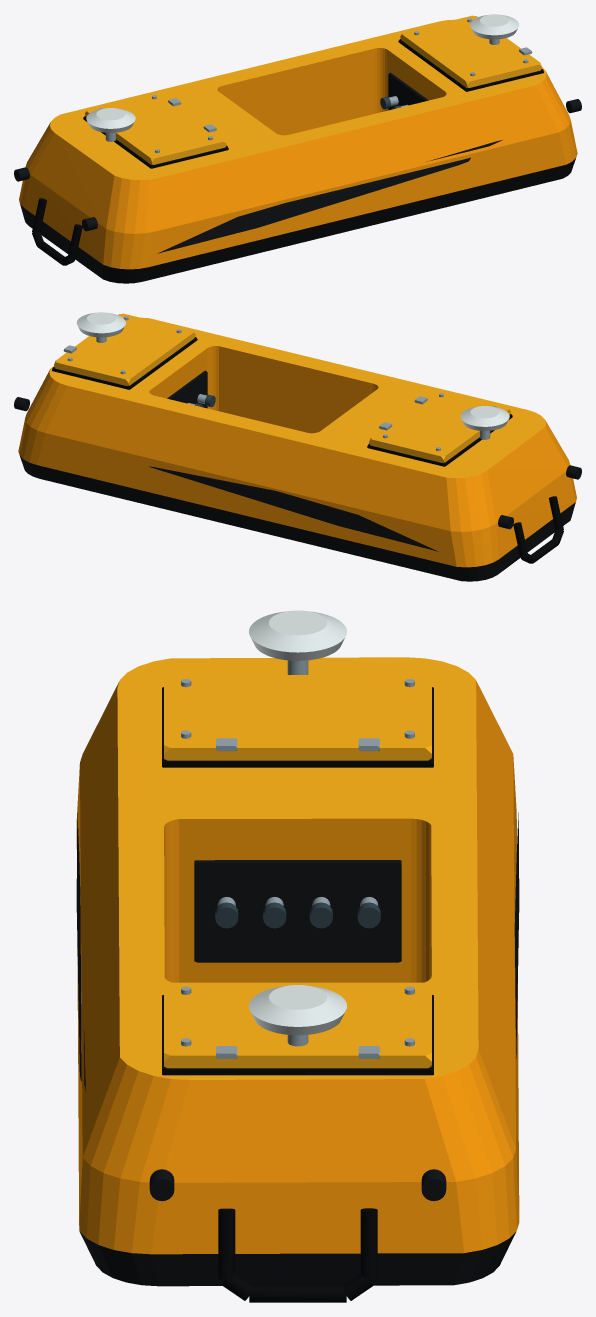
The model's file is equipment_cabin.dae.
The picture shows the model from 3 angles, top to bottom: view 1: azimuth 30°, elevation 25°; view 2: azimuth 150°, elevation 25°; view 3: azimuth 270°, elevation 25°; orthographic projection. The views are drawn at different scales.
Parts seen in each view (by area): view 1: node1, node2, node0, node3, node5, node4; view 2: node1, node2, node0, node3, node5, node4; view 3: node1, node2, node0, node3, node5, node4, node6.
Boxes of the visible parts, <box> form: node1: <box>19,48,577,269</box>; node2: <box>50,15,546,179</box>; node0: <box>14,72,581,283</box>; node3: <box>32,39,543,265</box>; node5: <box>86,14,519,132</box>; node4: <box>99,18,532,152</box>; node1: <box>18,346,576,567</box>; node2: <box>49,313,545,477</box>; node0: <box>14,370,581,581</box>; node3: <box>52,337,563,563</box>; node5: <box>76,312,509,430</box>; node4: <box>63,316,496,450</box>; node1: <box>76,680,519,1254</box>; node2: <box>117,657,478,1079</box>; node0: <box>76,812,519,1286</box>; node3: <box>162,687,433,1302</box>; node5: <box>249,610,346,1035</box>; node4: <box>181,660,414,1058</box>; node6: <box>215,902,380,928</box>.
Size of the model in its own units: 1.77 by 0.6815 by 0.436.
